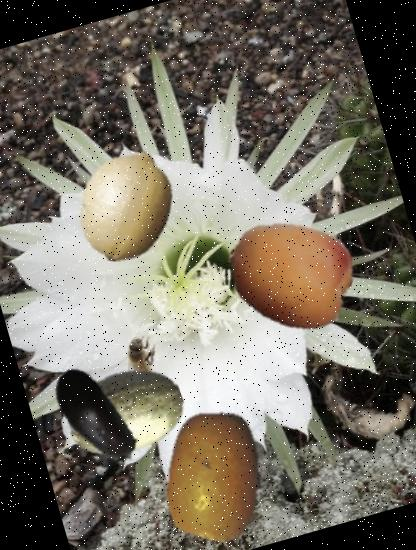Apricot: (211, 196, 367, 352)
Eggplant: (24, 348, 164, 487)
Kumquats: (132, 395, 297, 550)
Lemon: (57, 135, 198, 276)
Melon: (50, 338, 197, 485)
